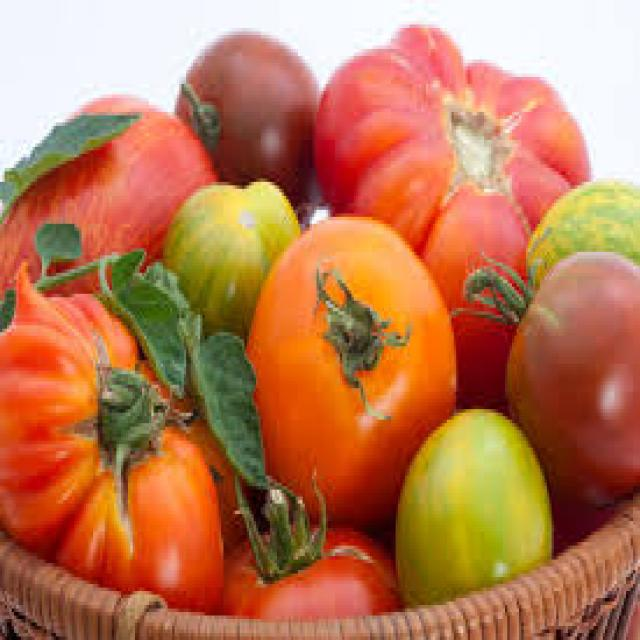organic waste: (312, 18, 591, 402), (0, 262, 247, 608), (240, 210, 456, 531), (0, 91, 214, 322), (453, 245, 638, 507), (393, 402, 552, 605), (175, 24, 316, 228), (216, 465, 398, 616), (163, 178, 300, 340), (524, 175, 638, 294)
